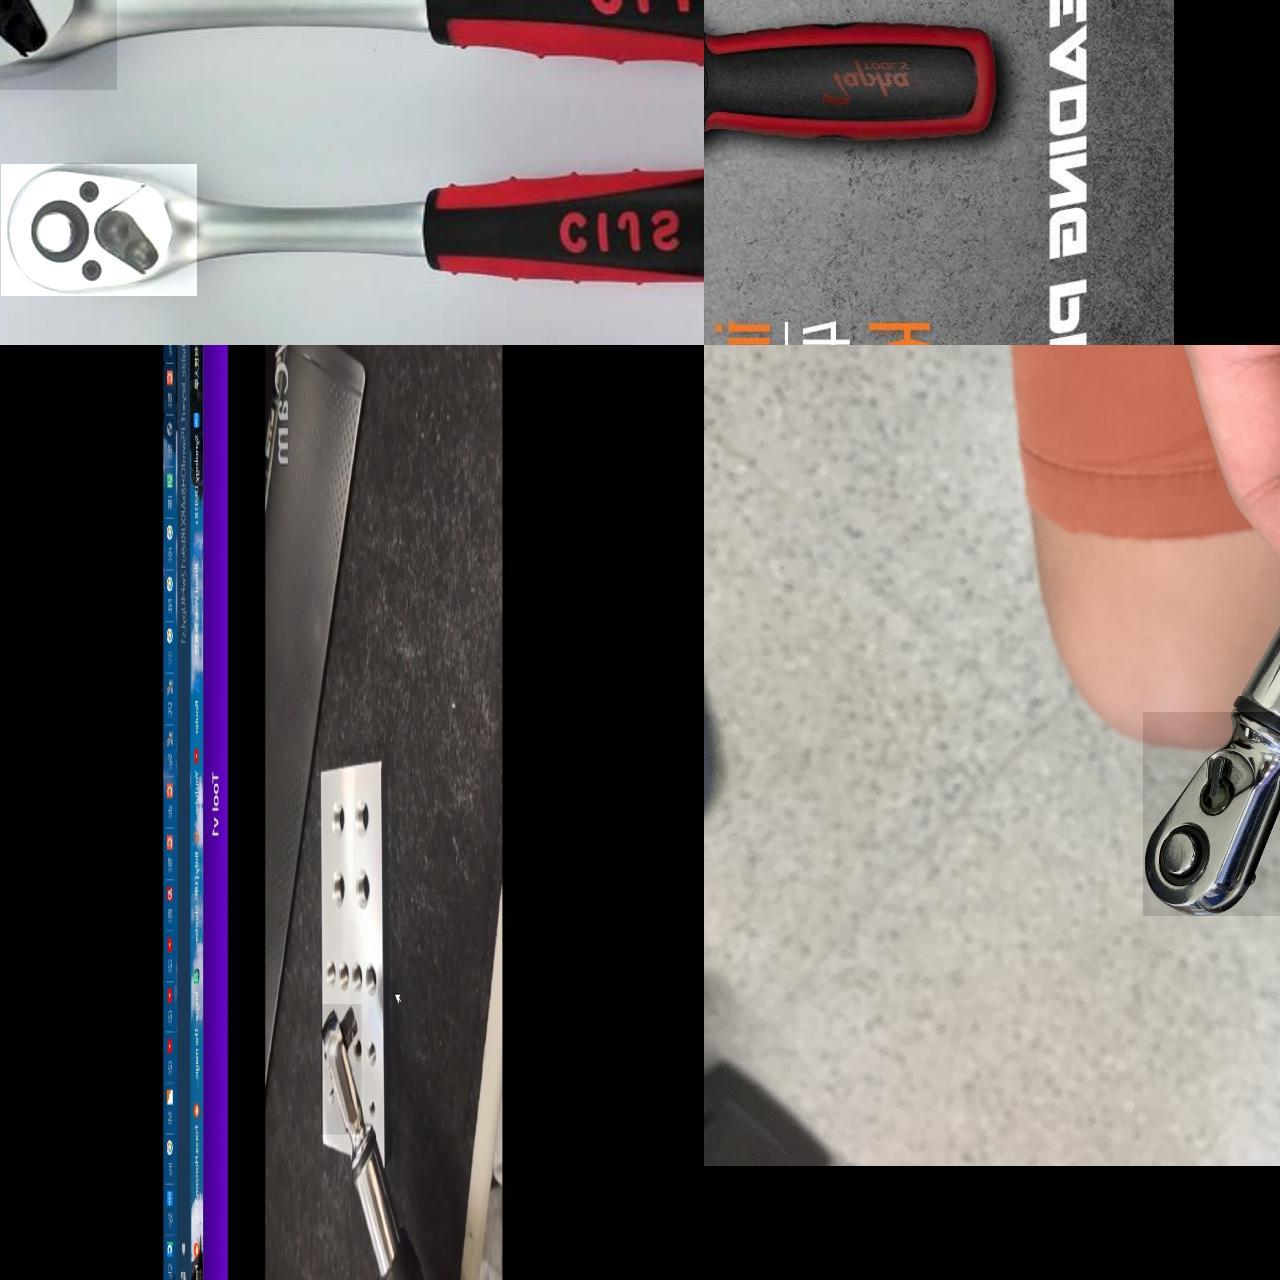Tool: (1142, 712, 1280, 915), (0, 164, 196, 297), (0, 0, 116, 90), (320, 1005, 361, 1135)
hole: (12, 184, 94, 267), (4, 4, 53, 53), (347, 873, 372, 907), (362, 966, 384, 1003), (327, 876, 352, 906), (334, 956, 352, 996), (347, 961, 366, 996), (79, 173, 103, 199), (331, 802, 348, 837), (80, 252, 104, 277), (347, 808, 369, 835), (361, 1092, 379, 1125), (363, 1043, 381, 1068), (324, 960, 336, 992)
